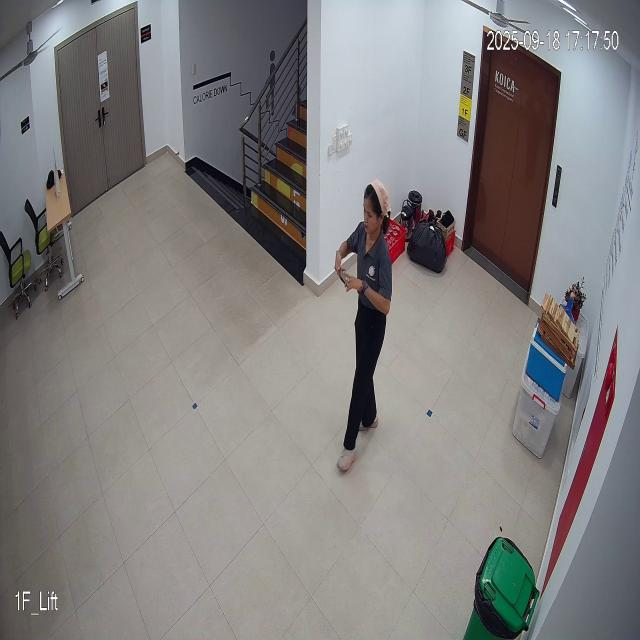face: (360, 178, 392, 235)
